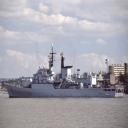Fragata: (5, 36, 126, 100)
